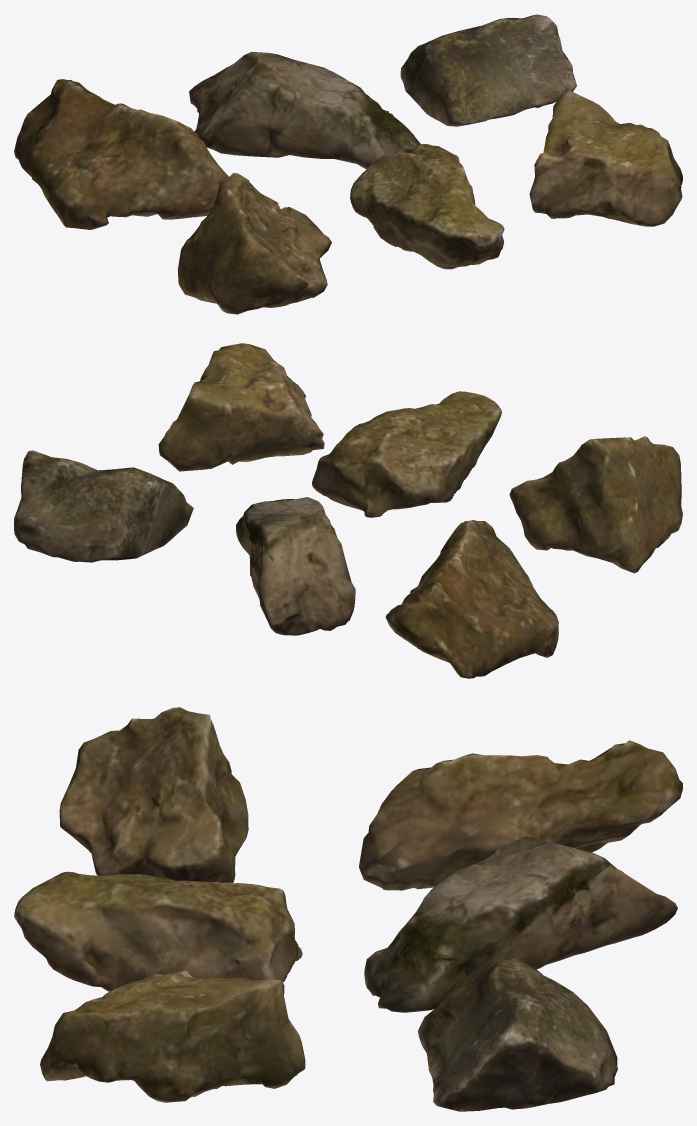
The model's file is rock_moss_set_01.glb.
The picture shows the model from 3 angles, top to bottom: view 1: azimuth 30°, elevation 25°; view 2: azimuth 150°, elevation 25°; view 3: azimuth 270°, elevation 25°; orthographic projection. The views are drawn at different scales.
Visible parts, largest first — view 1: rock_moss_set_01_rock01, rock_moss_set_01_rock02, rock_moss_set_01_rock06, rock_moss_set_01_rock04, rock_moss_set_01_rock03, rock_moss_set_01_rock05; view 2: rock_moss_set_01_rock04, rock_moss_set_01_rock01, rock_moss_set_01_rock05, rock_moss_set_01_rock03, rock_moss_set_01_rock06, rock_moss_set_01_rock02; view 3: rock_moss_set_01_rock01, rock_moss_set_01_rock02, rock_moss_set_01_rock05, rock_moss_set_01_rock06, rock_moss_set_01_rock04, rock_moss_set_01_rock03.
Boxes of the visible parts, x1,y1,x2,y2 form: rock_moss_set_01_rock01: (14,79,228,229); rock_moss_set_01_rock02: (189,51,420,169); rock_moss_set_01_rock06: (529,90,682,226); rock_moss_set_01_rock04: (177,172,331,314); rock_moss_set_01_rock03: (400,14,576,126); rock_moss_set_01_rock05: (350,144,504,269); rock_moss_set_01_rock04: (509,436,682,573); rock_moss_set_01_rock01: (385,520,558,678); rock_moss_set_01_rock05: (312,391,501,517); rock_moss_set_01_rock03: (14,450,193,562); rock_moss_set_01_rock06: (158,343,324,471); rock_moss_set_01_rock02: (236,497,355,635); rock_moss_set_01_rock01: (359,740,682,890); rock_moss_set_01_rock02: (364,836,677,1012); rock_moss_set_01_rock05: (14,871,302,991); rock_moss_set_01_rock06: (40,970,305,1102); rock_moss_set_01_rock04: (59,707,248,882); rock_moss_set_01_rock03: (418,956,617,1111).
Bounding box in the file's own units: 8 × 1.76 × 6.94.
Materials: 1 (1 with a texture image).
